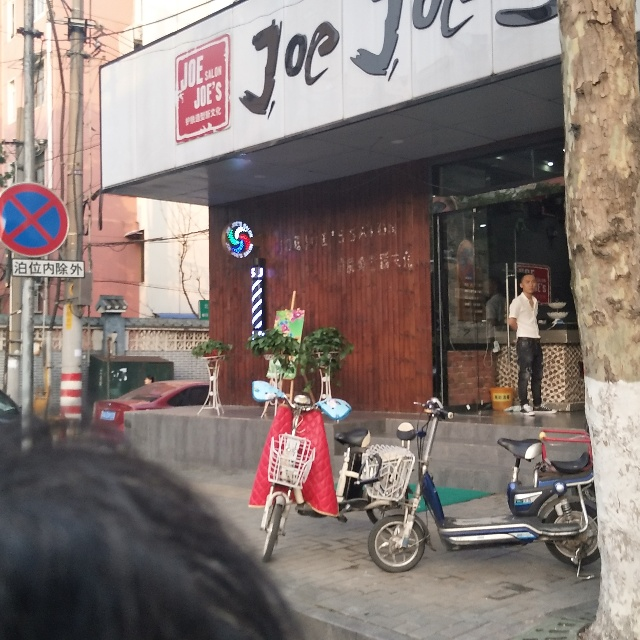stop: (1, 172, 73, 263)
